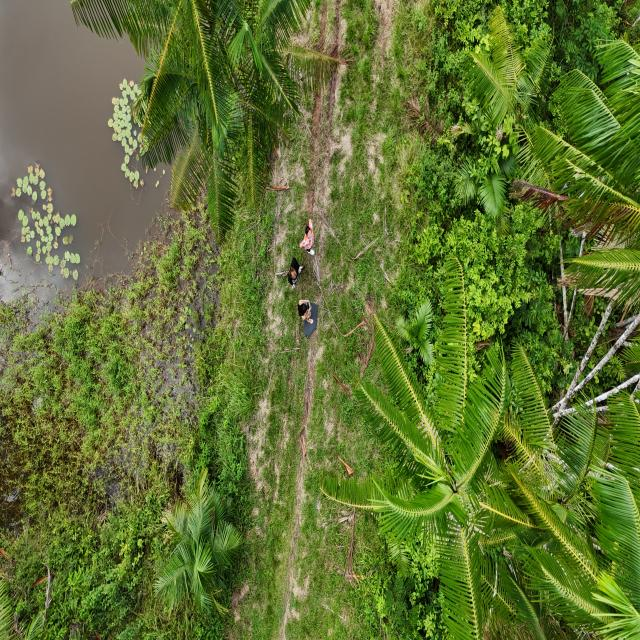vegetation: (319, 254, 639, 638), (69, 0, 352, 246)
